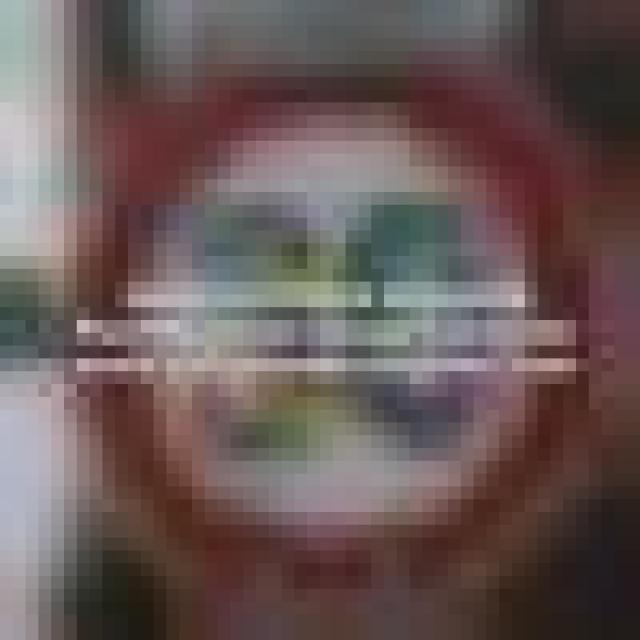SPEED_LIMIT_30: (64, 64, 576, 602)
